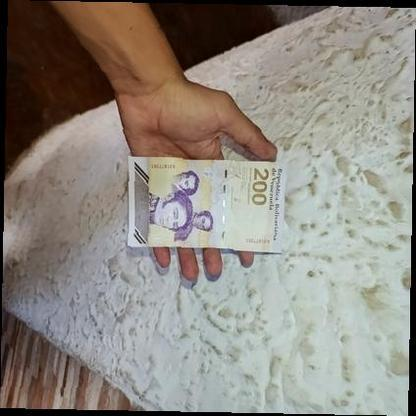vef_front: (126, 155, 288, 252)
